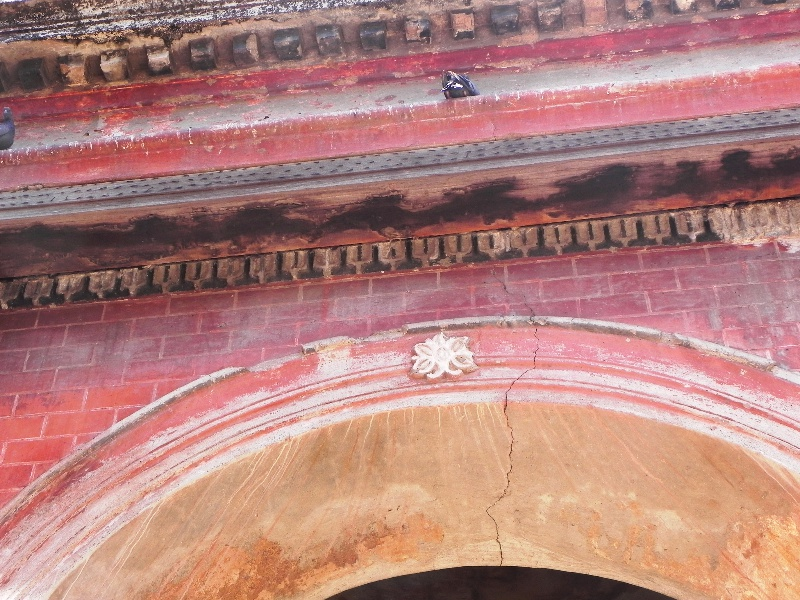Crack: (481, 369, 542, 565), (496, 282, 554, 367)
